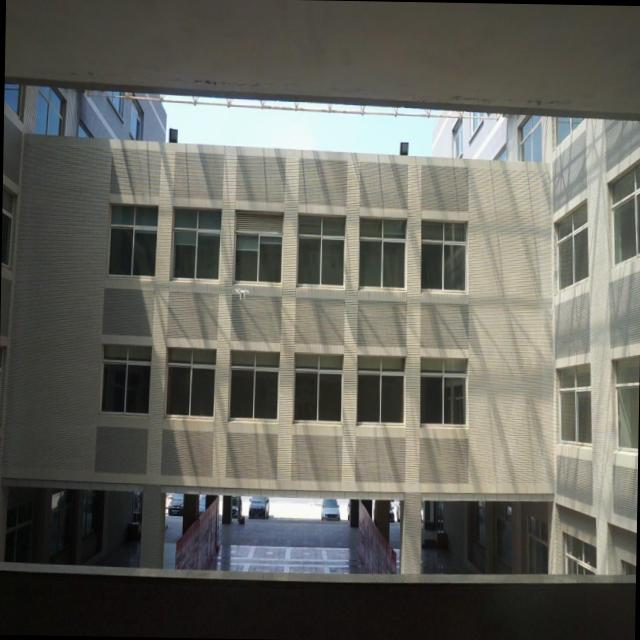drone: (233, 284, 253, 302)
